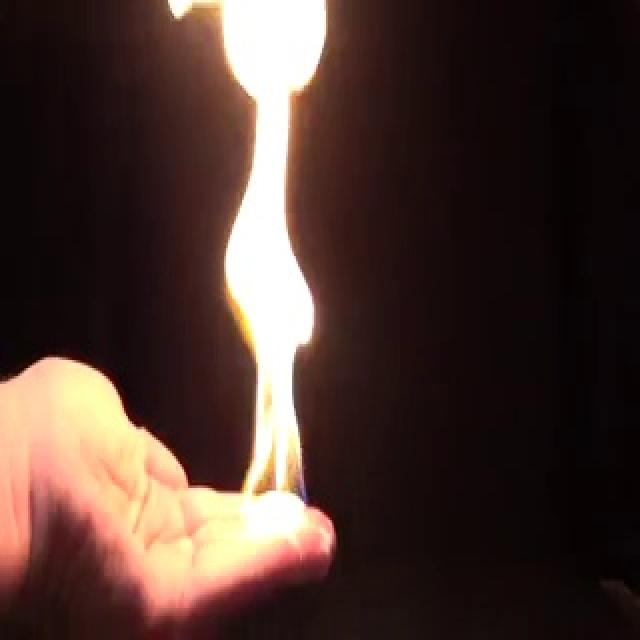fire: (213, 0, 331, 527)
